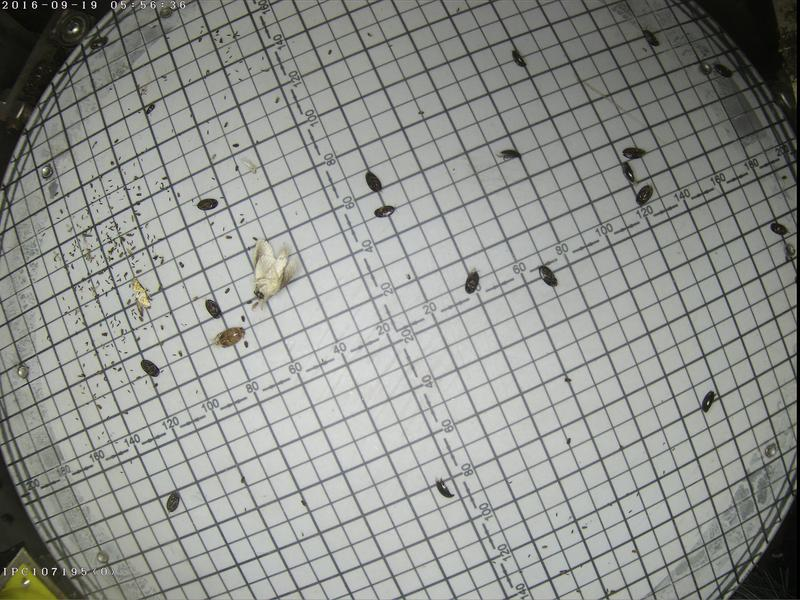Rice Leaf Roller: (128, 276, 151, 307)
